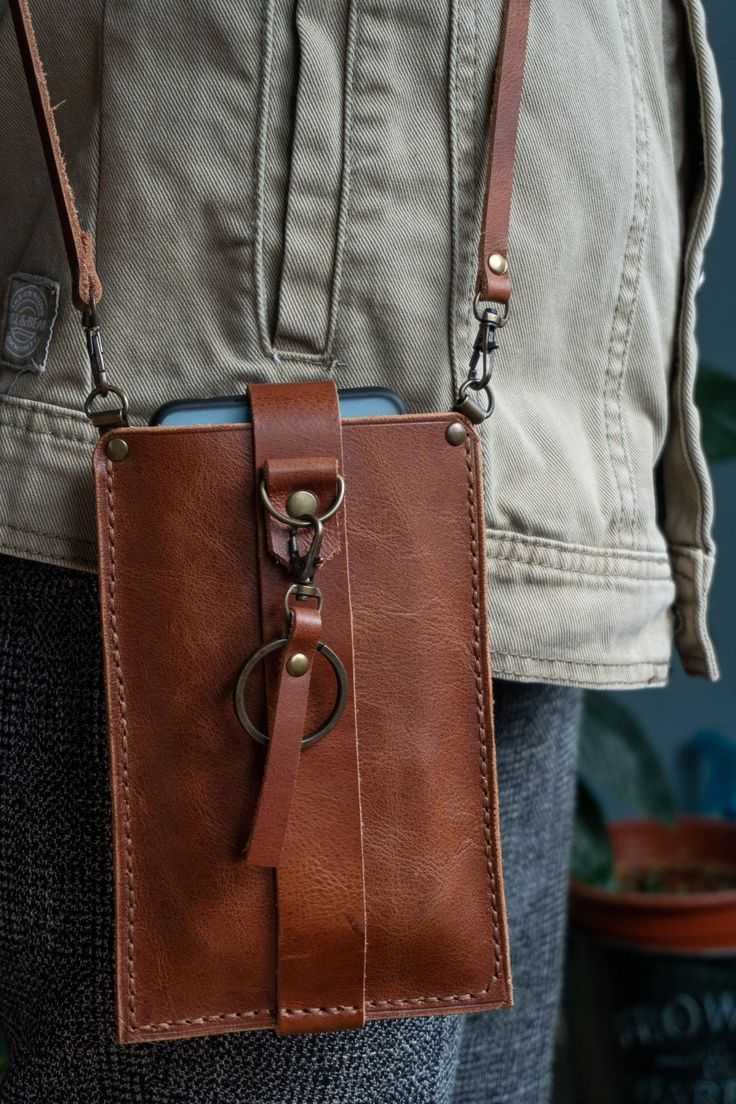cuero: (90, 1, 530, 1049)
